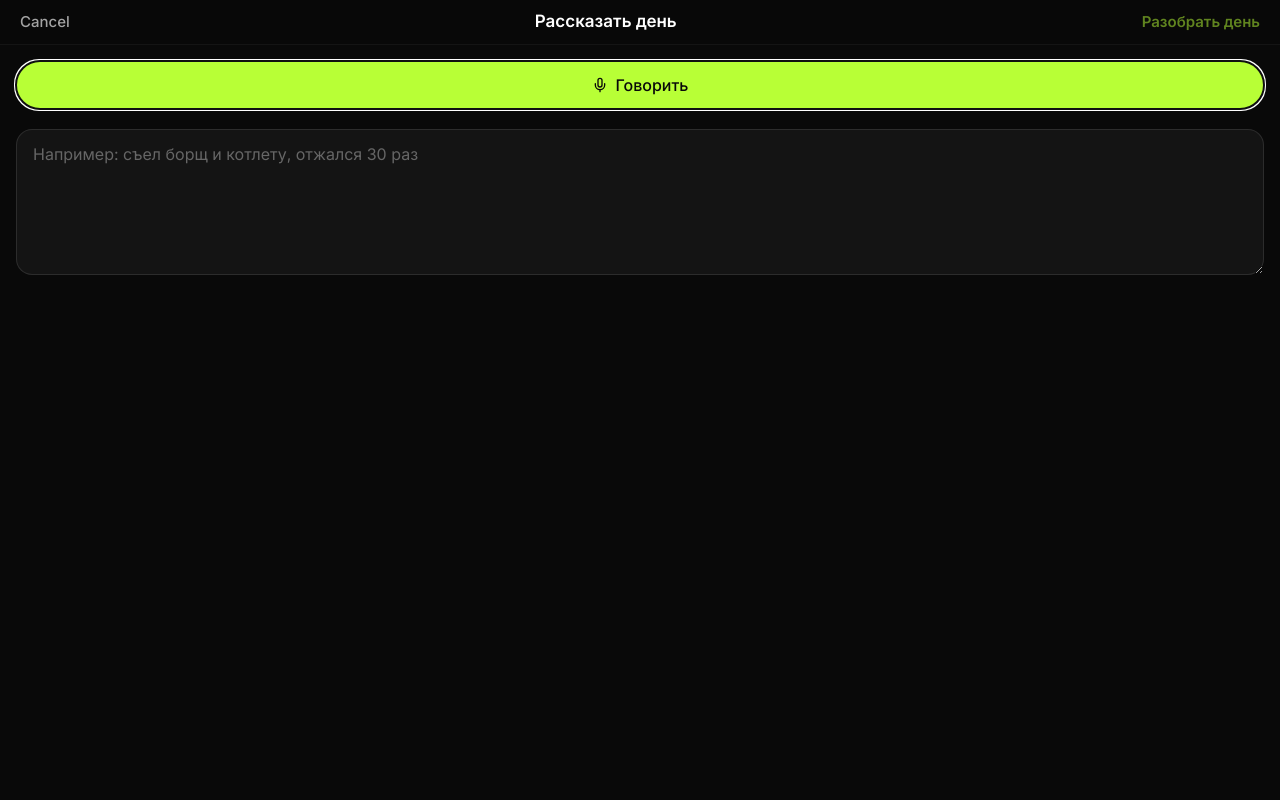
Test: reviewing and writing a dictated day › says which numbers it estimated rather than heard
Step 1. Click the button with aria-label "Начать диктовку" → (640,85), box top-left (16, 61), bottom-right (1264, 109)
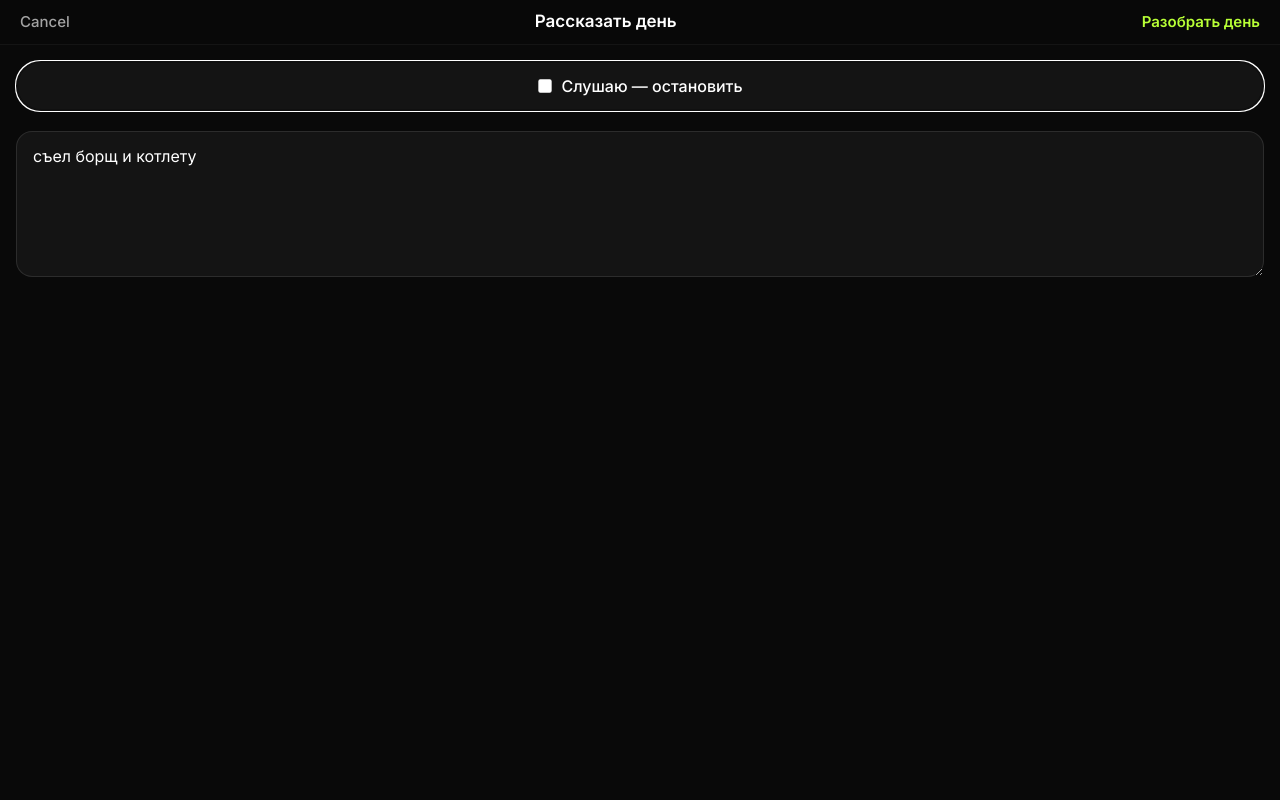
Step 2. Click the button "Разобрать день" → (1201,22), box top-left (1134, 0), bottom-right (1268, 44)
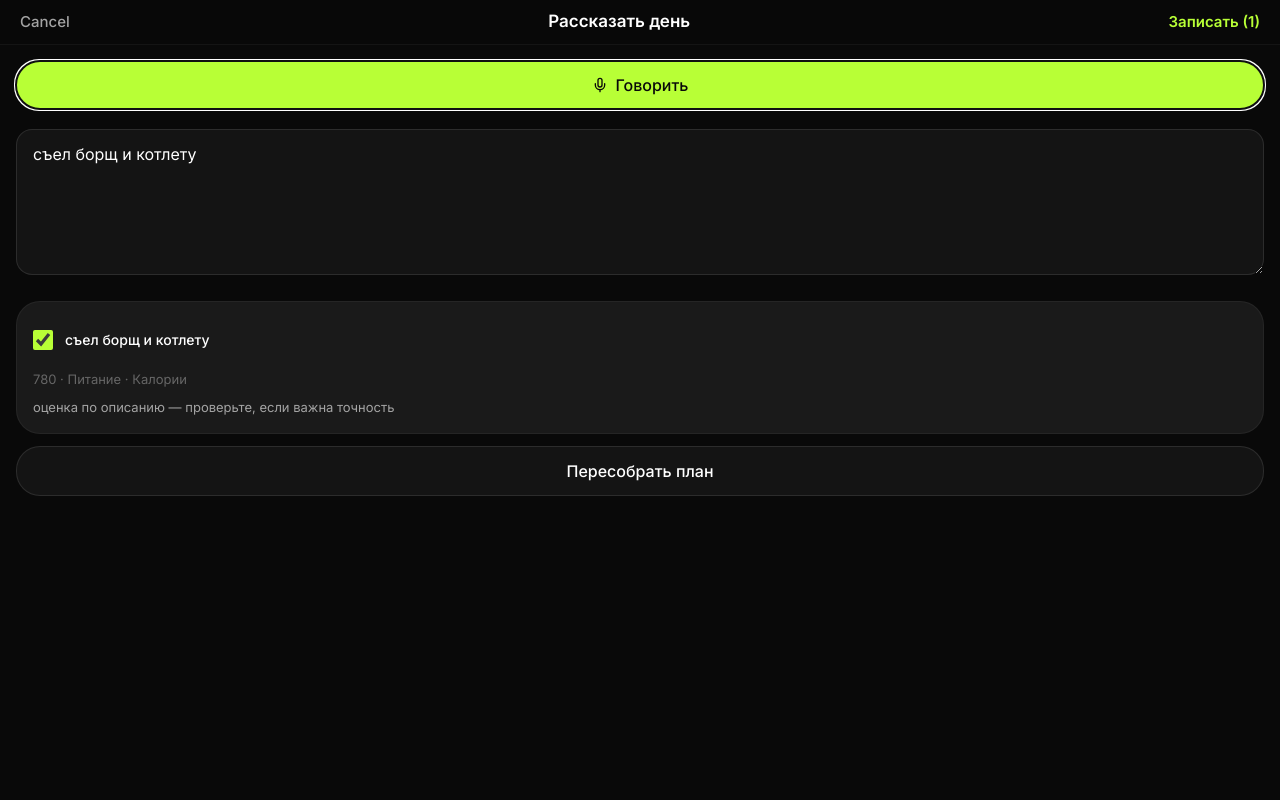
Expected: the text "оценка по описанию — проверьте, если важна точность" is shown, top-left (33, 398), bottom-right (394, 414)
Expected: the text "780 · Питание · Калории" is shown, top-left (33, 371), bottom-right (187, 387)
